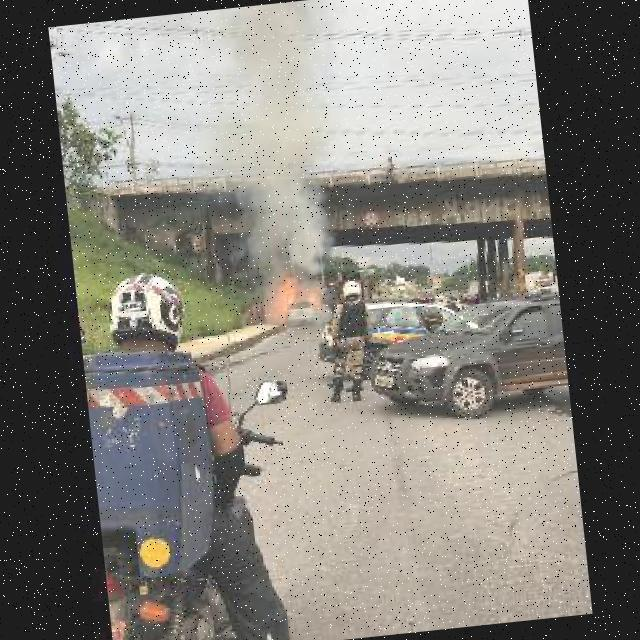Fire: (266, 276, 326, 324)
Smoke: (215, 32, 361, 276)
